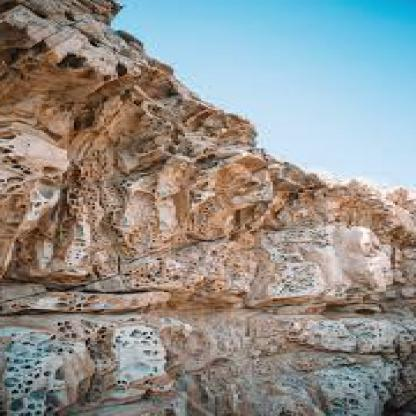Metamorphic_Quartize: (2, 12, 127, 314)
